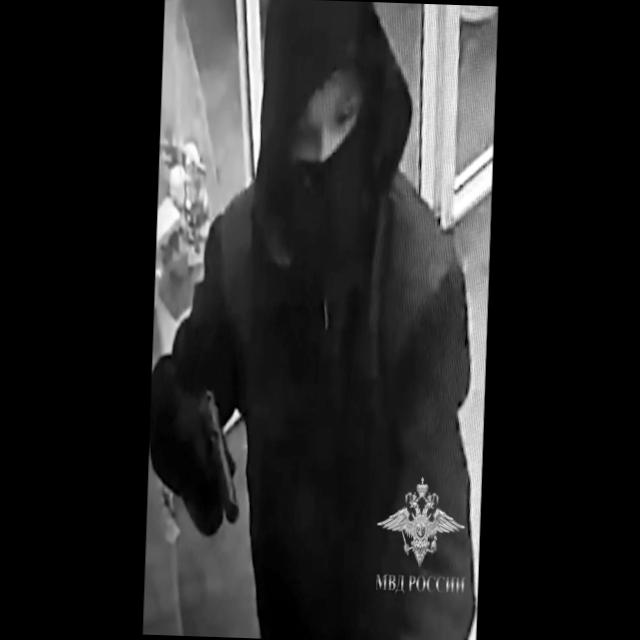gun: (180, 379, 244, 531)
person with a gun: (147, 5, 481, 640)
